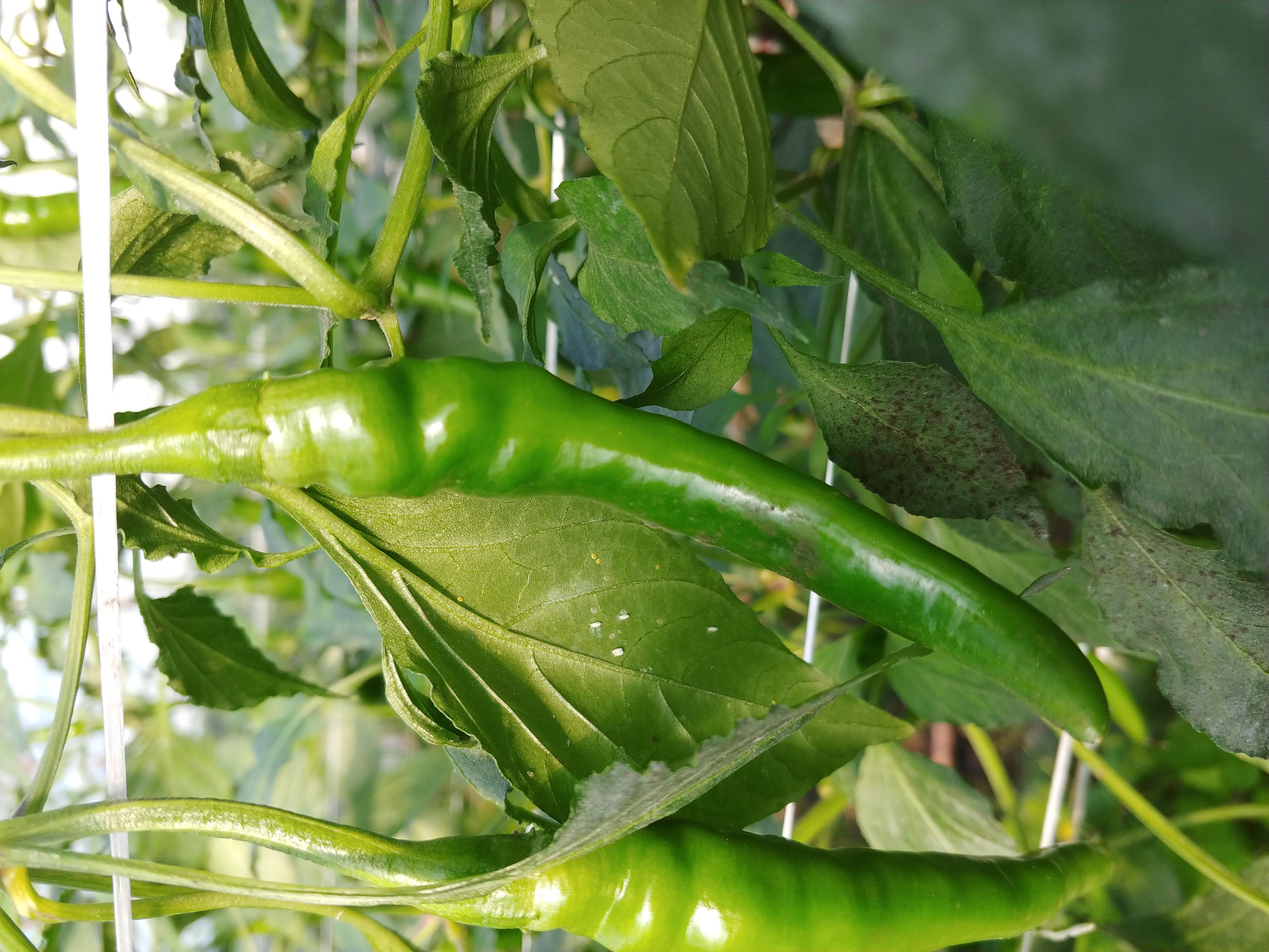Buah Cabai Sehat: (162, 344, 1121, 745), (515, 792, 1133, 952)
Daun Cabai Sehat: (275, 467, 918, 836)
